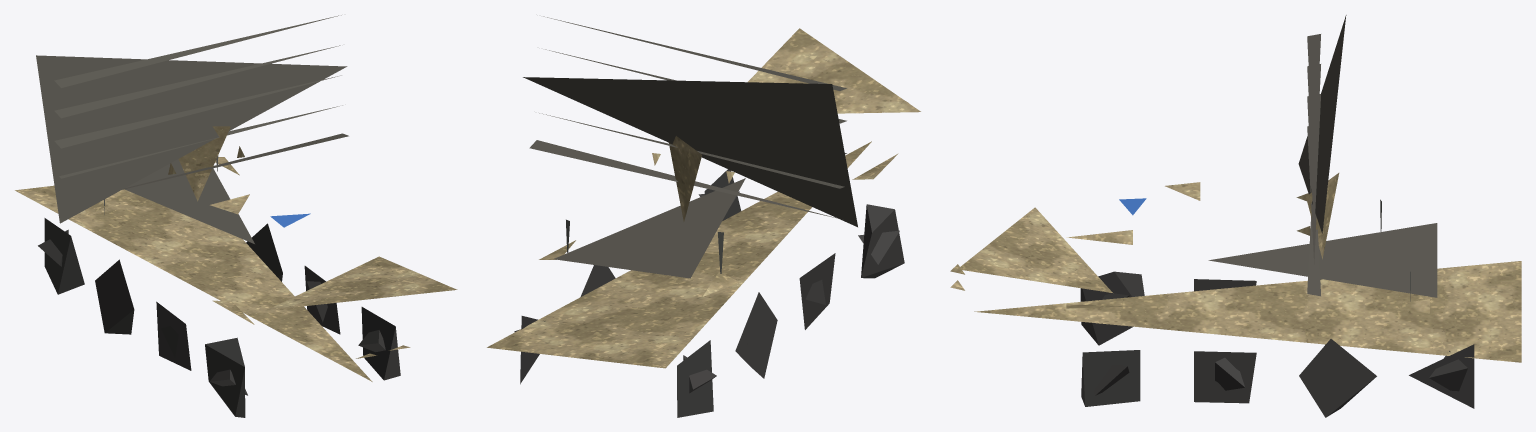
The model's file is rad_e4_us_search_LOD2.glb.
3 renders of one model, left to right at view 1: azimuth 30°, elevation 25°; view 2: azimuth 150°, elevation 25°; view 3: azimuth 270°, elevation 25°, orthographic. The views are drawn at different scales.
Visible parts, largest first — view 1: rad_e4_us_search_LOD2_deck, rad_e4_us_search_LOD2_body, rad_e4_us_search_LOD2_track; view 2: rad_e4_us_search_LOD2_deck, rad_e4_us_search_LOD2_body, rad_e4_us_search_LOD2_track; view 3: rad_e4_us_search_LOD2_body, rad_e4_us_search_LOD2_track, rad_e4_us_search_LOD2_deck.
Boxes of the visible parts, bbox=[...] form: rad_e4_us_search_LOD2_deck: bbox=[36, 15, 348, 243]; rad_e4_us_search_LOD2_body: bbox=[15, 126, 457, 381]; rad_e4_us_search_LOD2_track: bbox=[38, 218, 400, 417]; rad_e4_us_search_LOD2_deck: bbox=[523, 16, 857, 278]; rad_e4_us_search_LOD2_body: bbox=[487, 28, 920, 368]; rad_e4_us_search_LOD2_track: bbox=[514, 169, 904, 417]; rad_e4_us_search_LOD2_body: bbox=[950, 173, 1521, 362]; rad_e4_us_search_LOD2_track: bbox=[1080, 271, 1474, 417]; rad_e4_us_search_LOD2_deck: bbox=[1208, 15, 1437, 297].
Bounding box in the file's own units: 5.4 × 5.03 × 8.97.
5 materials, 1 textured.
